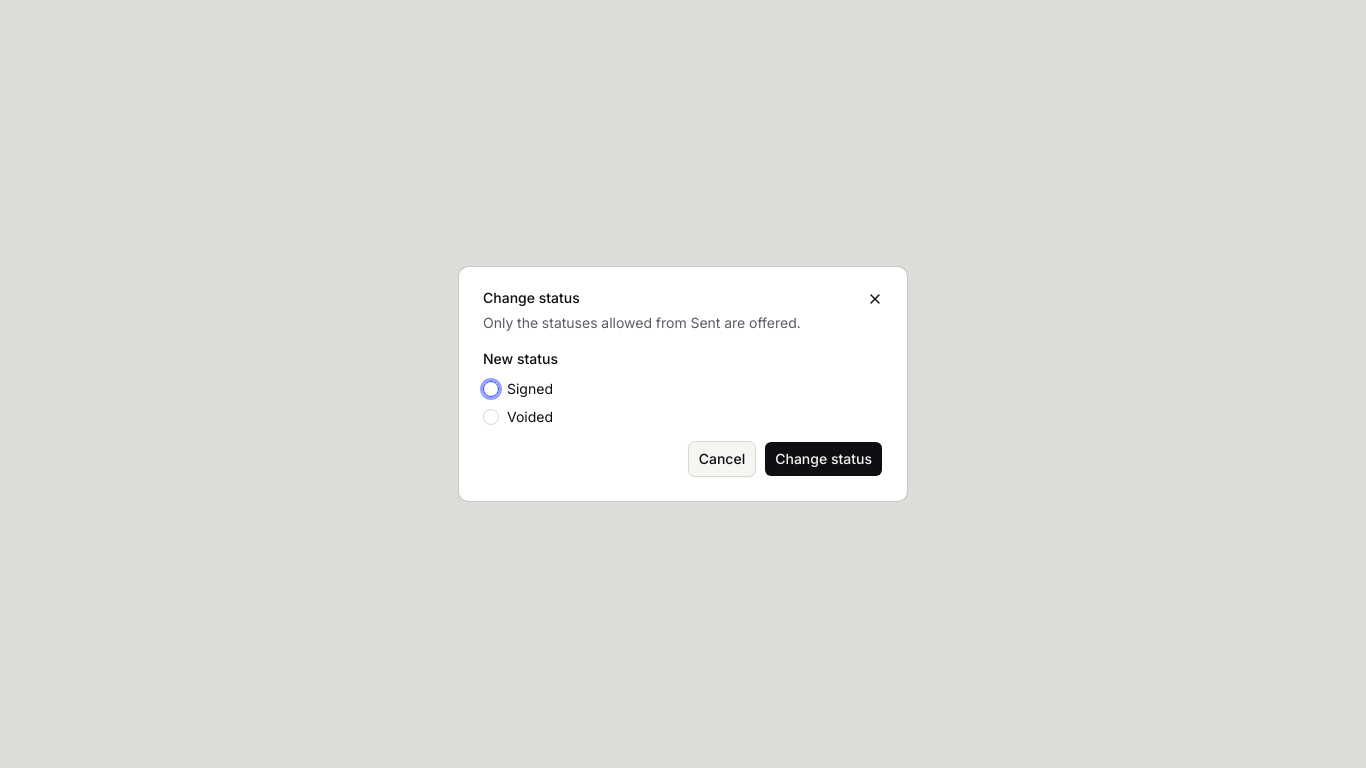
DocumentStatusDialog › asks for the signature date when FIRMADO is chosen and refuses to submit without it
Expected: the field labelled "Signed date" is not shown
Click the radio button named "Signed" next to "Signed".
click(491, 389)  # box [483,381,499,397]
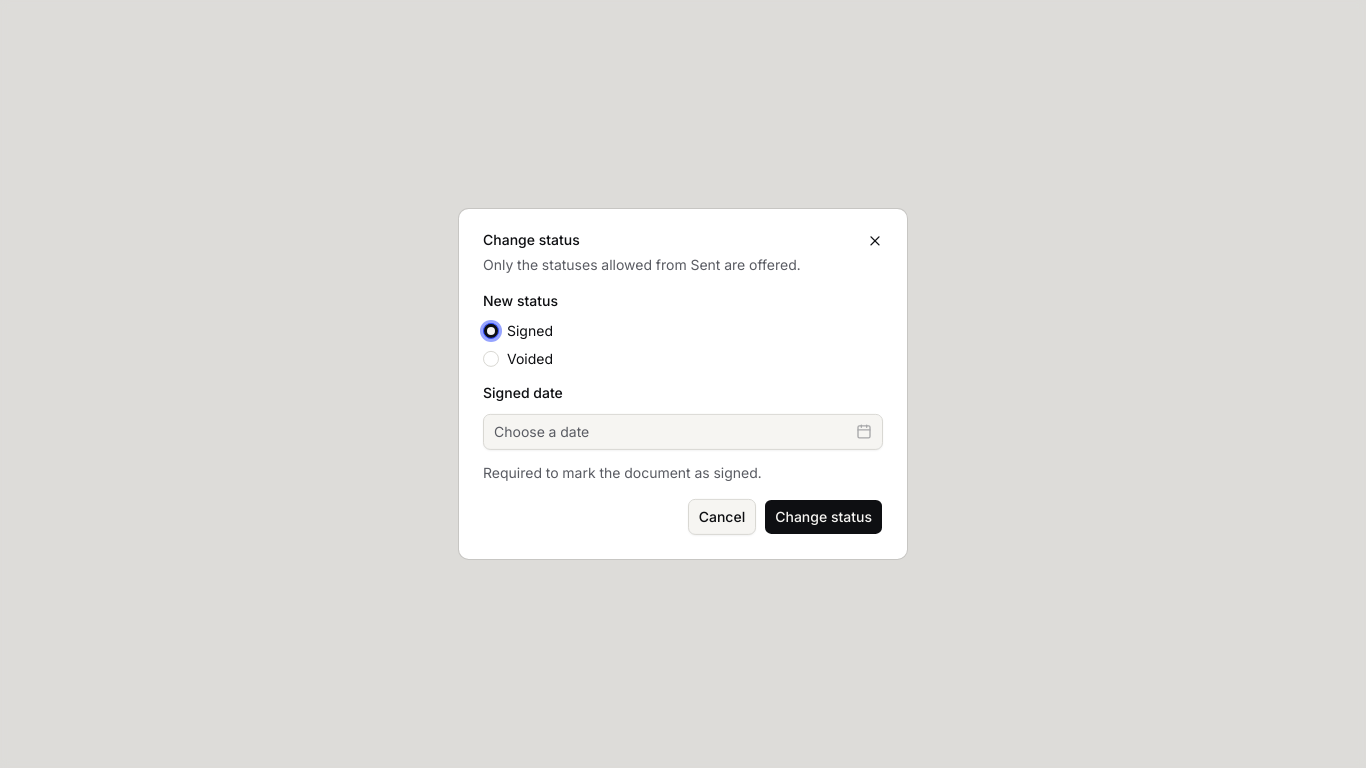
Now the button named "Signed date" is shown, box [483,414,883,450]
Click the button "Change status".
click(824, 517)  # box [764,499,883,535]
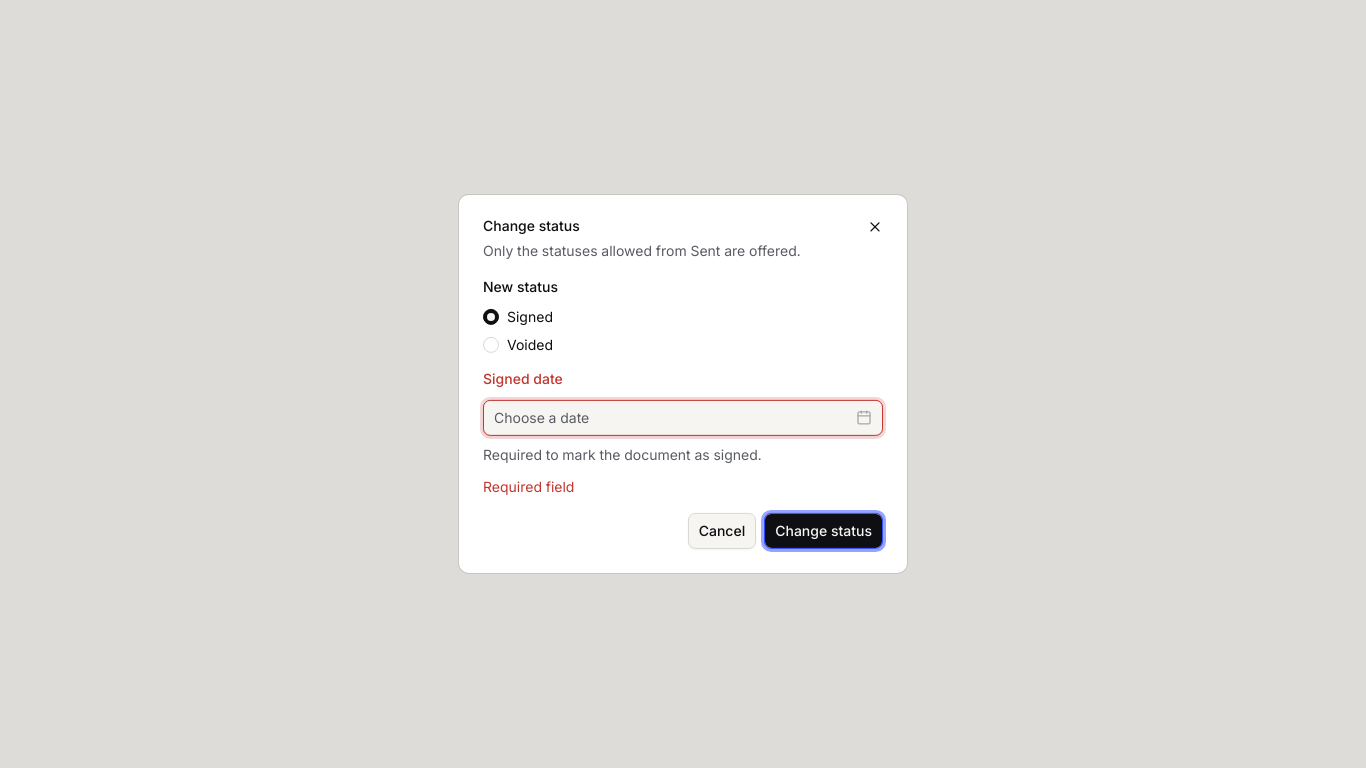
Now the text "Required field" is shown, box [483,478,574,495]
